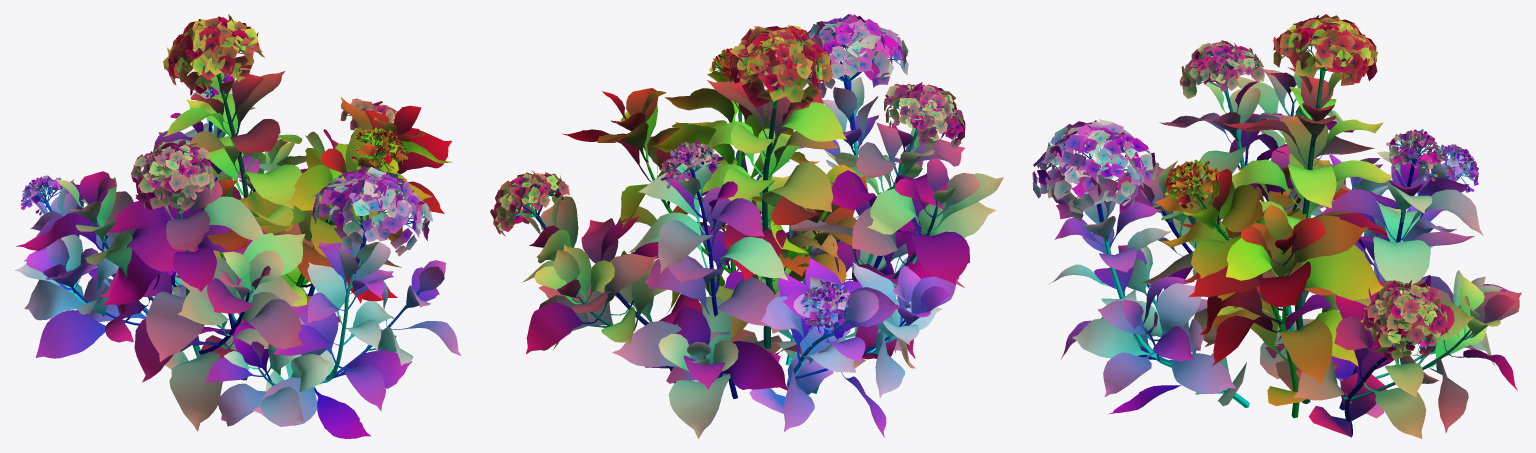
Rendered from Bigleaf_Hydrangea_vgztealha_Mid_vgztealha_VarD_LOD0.fbx.
The picture shows the model from 3 angles, left to right: view 1: azimuth 30°, elevation 25°; view 2: azimuth 150°, elevation 25°; view 3: azimuth 270°, elevation 25°; orthographic projection. The views are drawn at different scales.
Visible parts, largest first — view 1: _6orl_VarD_LOD1; view 2: _6orl_VarD_LOD1; view 3: _6orl_VarD_LOD1.
Part boxes in pixels (x1,y1,x2,y2): _6orl_VarD_LOD1: [14, 14, 460, 438]; _6orl_VarD_LOD1: [490, 14, 1003, 438]; _6orl_VarD_LOD1: [1032, 14, 1521, 438].
Size of the model in its own units: 129 by 106 by 125.
